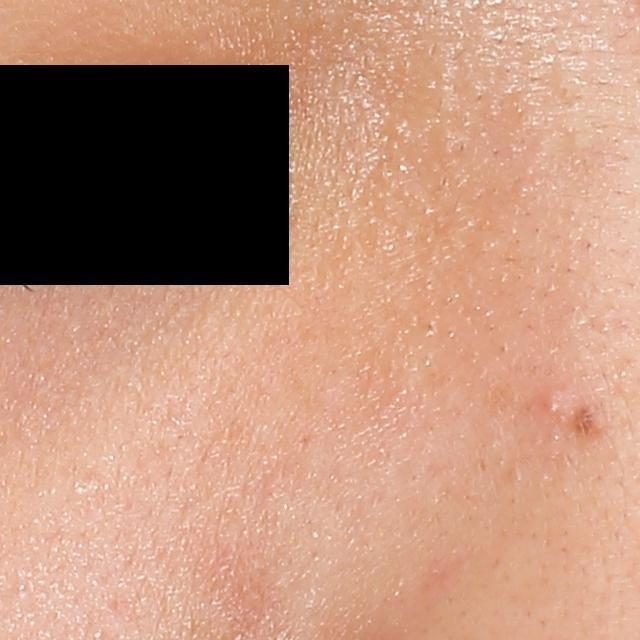nevus: (570, 404, 598, 440)
